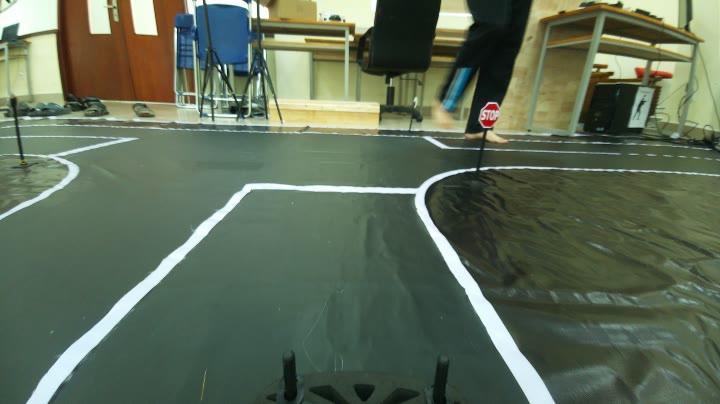stop: (475, 102, 502, 132)
